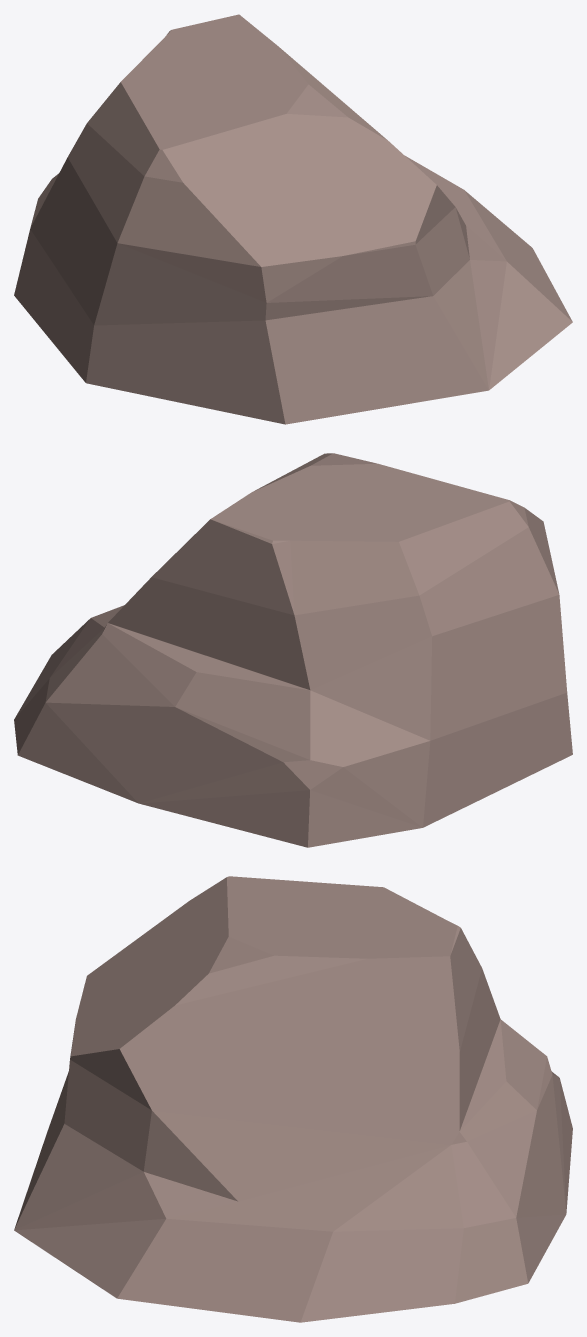
The model's file is Rock_21.fbx.
3 views of the same model, one above another, from view 1: azimuth 30°, elevation 25°; view 2: azimuth 150°, elevation 25°; view 3: azimuth 270°, elevation 25° (orthographic). The views are drawn at different scales.
Visible parts, largest first — view 1: Rock_21; view 2: Rock_21; view 3: Rock_21.
Part boxes in pixels (x1=…): Rock_21: x1=14, y1=14, x2=572, y2=424; Rock_21: x1=14, y1=453, x2=572, y2=847; Rock_21: x1=14, y1=876, x2=572, y2=1322.
Size of the model in its own units: 6.36 by 3.03 by 6.12.
